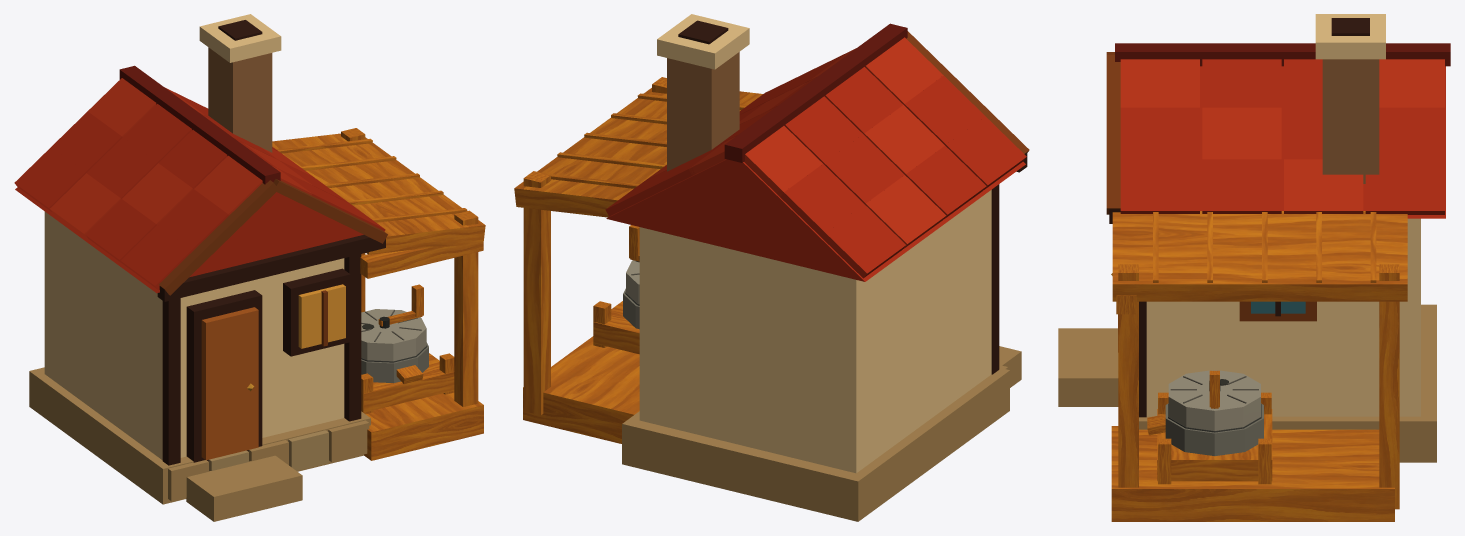
File: mill.obj
3 views of the same model, side by side, from view 1: azimuth 30°, elevation 25°; view 2: azimuth 150°, elevation 25°; view 3: azimuth 270°, elevation 25° (orthographic). The views are drawn at different scales.
Parts seen in each view (by area): view 1: mill; view 2: mill; view 3: mill.
Part boxes in pixels (x1,y1,x2,y2): mill: [14, 14, 485, 521]; mill: [514, 14, 1029, 521]; mill: [1058, 14, 1450, 521].
Size of the model in its own units: 1.92 by 2.03 by 1.73.
Materials: 2 (2 with a texture image).
